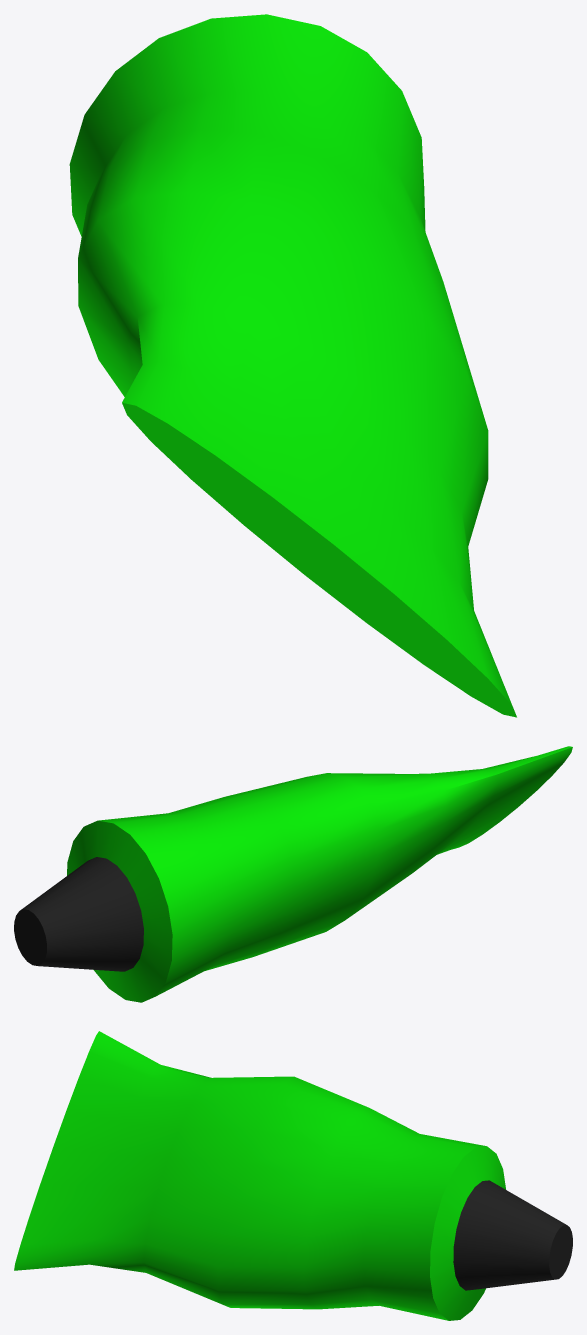
The model's file is Tool_02.fbx.
3 views of the same model, one above another, from view 1: azimuth 30°, elevation 25°; view 2: azimuth 150°, elevation 25°; view 3: azimuth 270°, elevation 25° (orthographic). The views are drawn at different scales.
Visible parts, largest first — view 1: Glue; view 2: Glue, Glue.001; view 3: Glue, Glue.001.
Part boxes in pixels (x1,y1,x2,y2): Glue: (69,14,516,717); Glue: (67,746,572,1002); Glue.001: (14,857,143,971); Glue: (14,1031,505,1320); Glue.001: (453,1180,572,1290).
Size of the model in its own units: 69.09 by 37.41 by 106.
